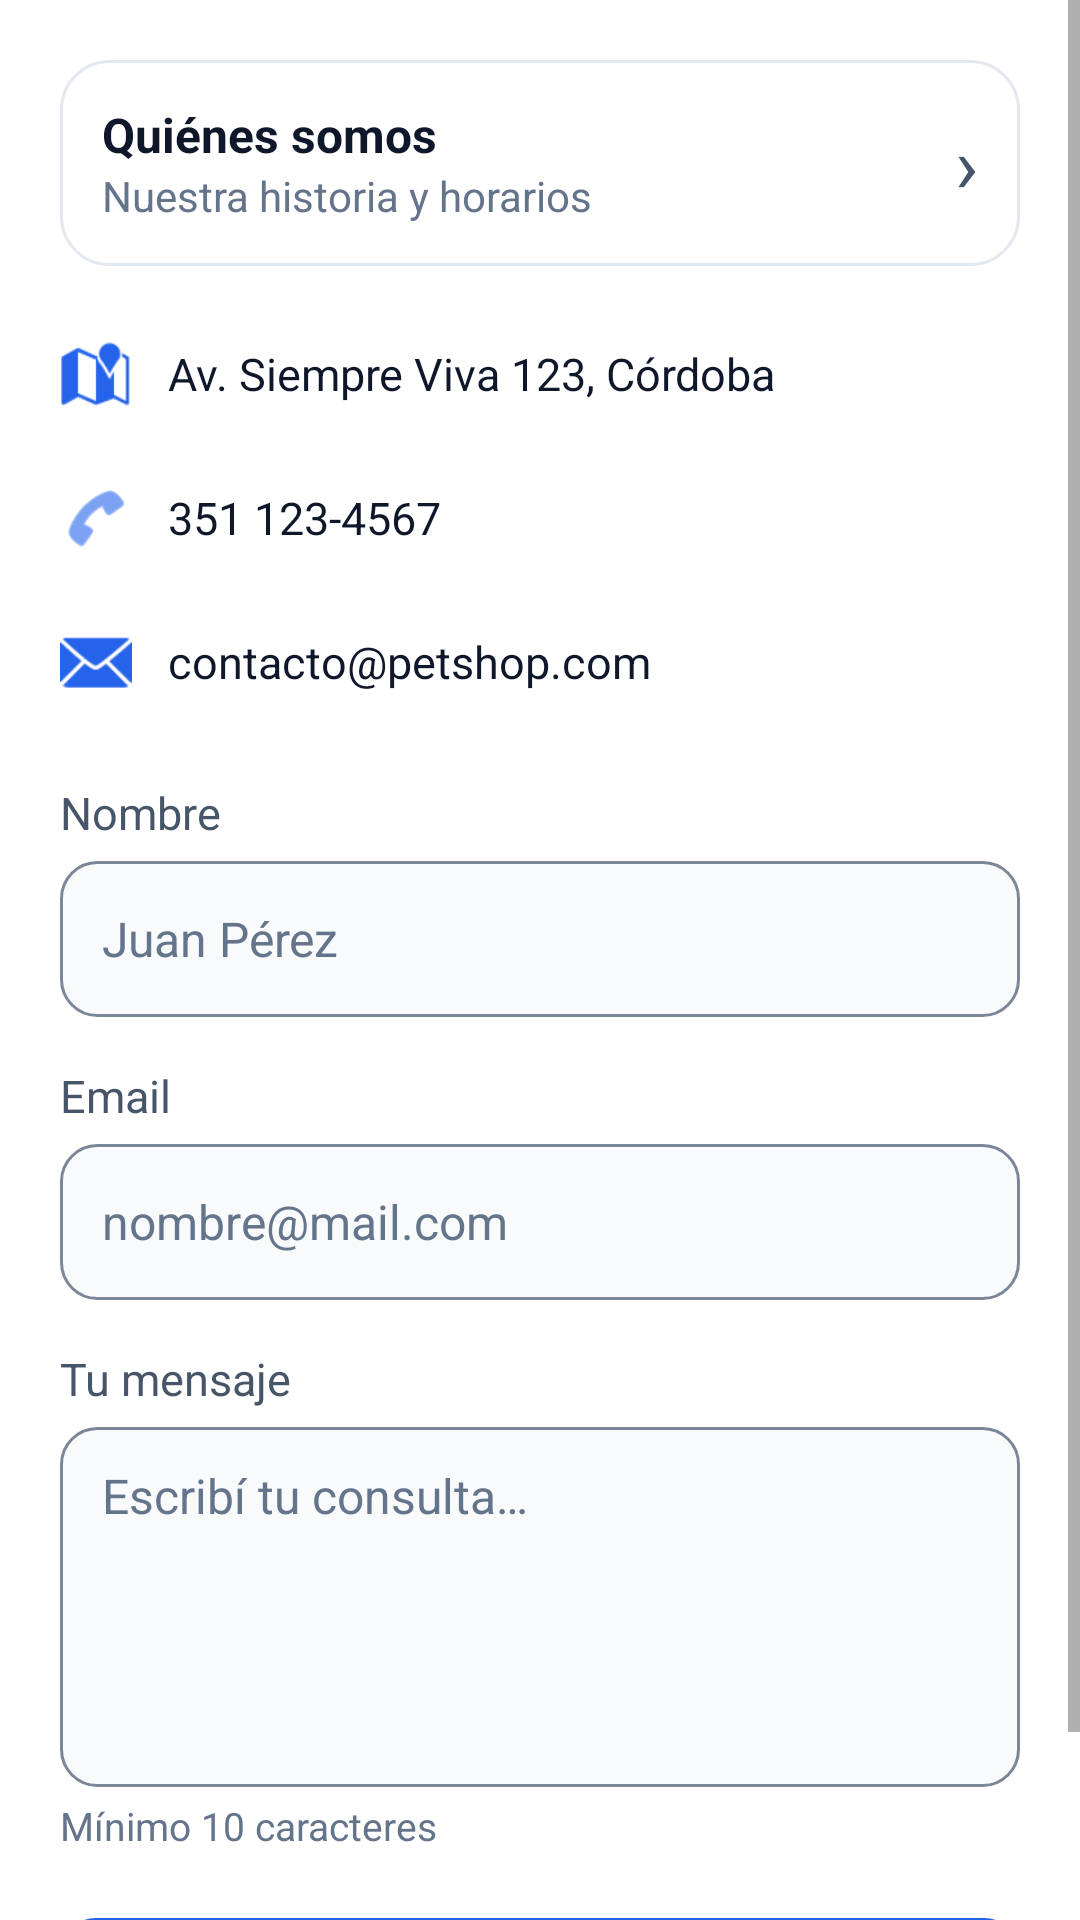

Icons on this 1080px×1920px Android screen, each with its box as (x1, y1, x2, y2):
call: (68, 490, 125, 547)
email: (60, 637, 132, 688)
map: (61, 342, 130, 406)
